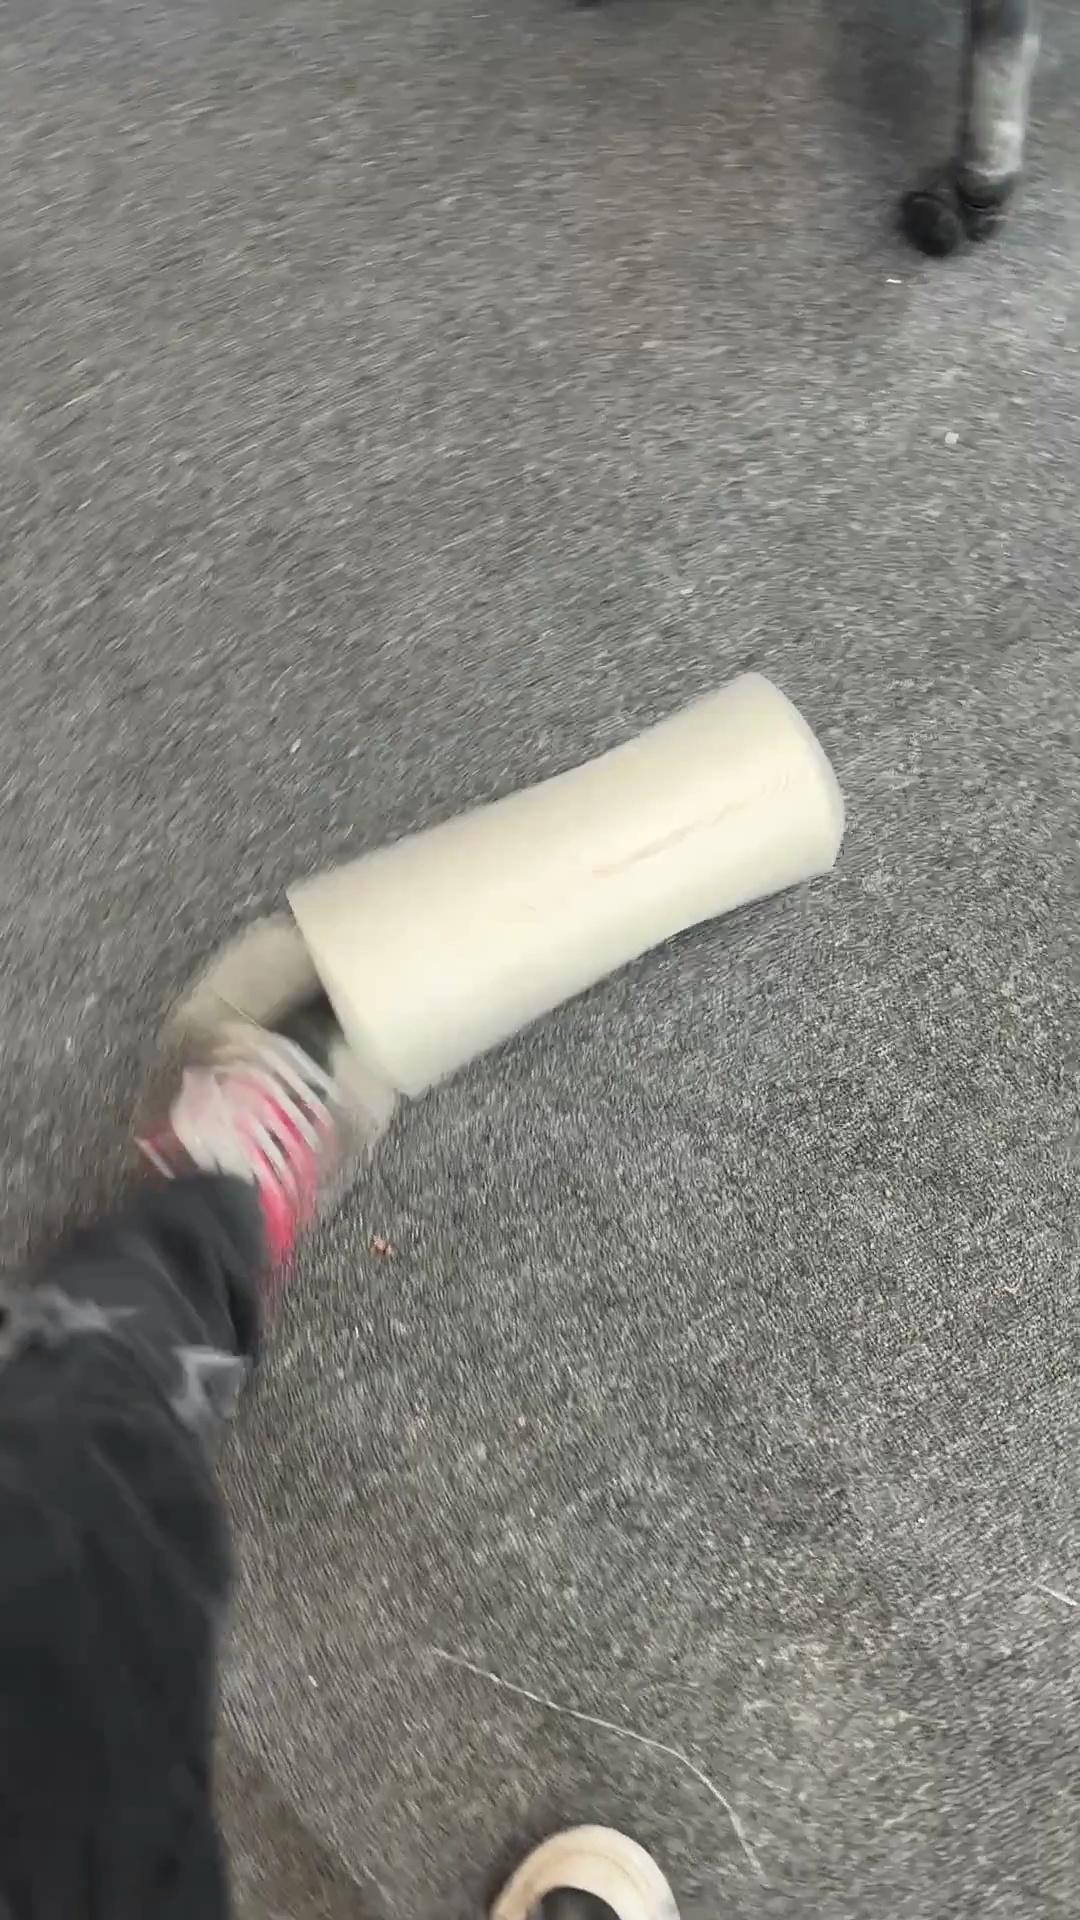CORAL: (285, 668, 854, 1097)
